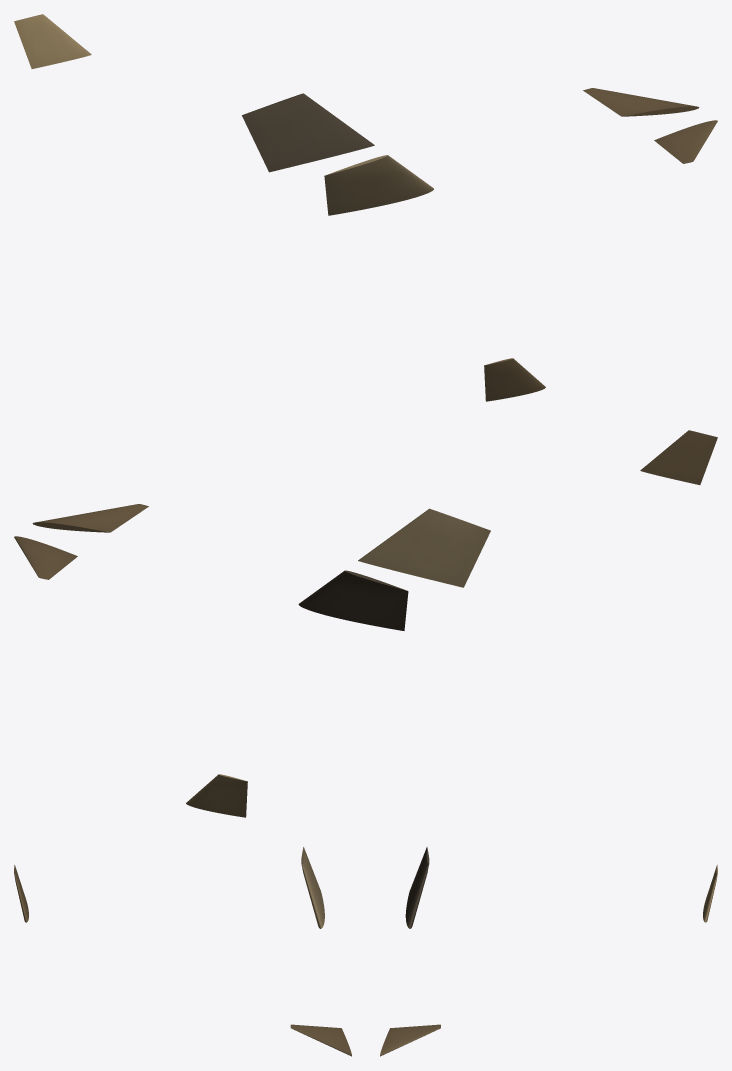
Rendered from fh_detail_bomber_2.glb.
The picture shows the model from 3 angles, top to bottom: view 1: azimuth 30°, elevation 25°; view 2: azimuth 150°, elevation 25°; view 3: azimuth 270°, elevation 25°; orthographic projection. The views are drawn at different scales.
Parts seen in each view (by area): view 1: fin_l, fin_r, winglet_l, winglet_r, canard_l, canard_r; view 2: fin_r, fin_l, winglet_r, winglet_l, canard_r, canard_l; view 3: canard_r, canard_l, fin_l, fin_r.
Boxes of the visible parts, x1=… form: fin_l: x1=242, y1=93, x2=374, y2=172; fin_r: x1=324, y1=155, x2=433, y2=215; winglet_l: x1=14, y1=14, x2=91, y2=68; winglet_r: x1=484, y1=358, x2=545, y2=401; canard_l: x1=583, y1=88, x2=699, y2=116; canard_r: x1=654, y1=120, x2=717, y2=163; fin_r: x1=358, y1=508, x2=490, y2=587; fin_l: x1=298, y1=570, x2=408, y2=630; winglet_r: x1=640, y1=430, x2=717, y2=484; winglet_l: x1=186, y1=774, x2=247, y2=817; canard_r: x1=32, y1=504, x2=148, y2=532; canard_l: x1=14, y1=536, x2=77, y2=579; canard_r: x1=290, y1=1024, x2=351, y2=1056; canard_l: x1=380, y1=1024, x2=440, y2=1056; fin_l: x1=405, y1=846, x2=429, y2=928; fin_r: x1=301, y1=847, x2=324, y2=928.
Size of the model in its own units: 0.622 by 0.1183 by 1.1.
